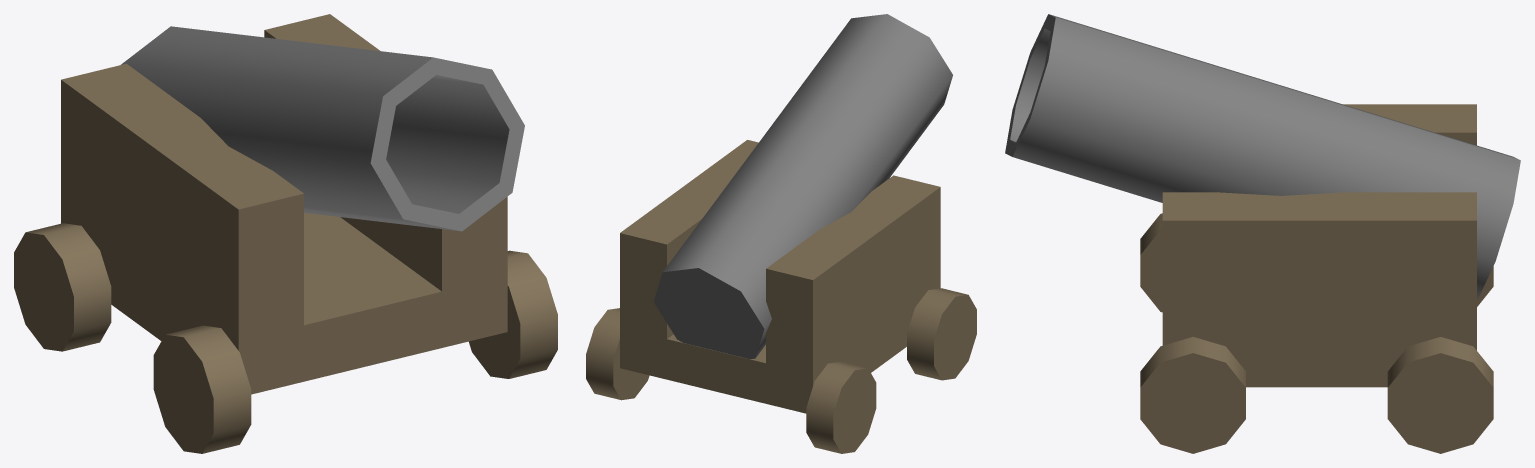
File: Cannon.fbx
3 views of the same model, side by side, from view 1: azimuth 30°, elevation 25°; view 2: azimuth 150°, elevation 25°; view 3: azimuth 270°, elevation 25° (orthographic). The views are drawn at different scales.
Visible parts, largest first — view 1: Stand, Pipe; view 2: Stand, Pipe; view 3: Stand, Pipe.
Boxes of the visible parts, x1,y1,x2,y2 form: Stand: [14, 14, 557, 453]; Pipe: [121, 26, 524, 231]; Stand: [586, 140, 976, 453]; Pipe: [653, 14, 952, 359]; Stand: [1140, 104, 1493, 453]; Pipe: [1005, 14, 1520, 299].
Size of the model in its own units: 1.28 by 1.45 by 1.88.
